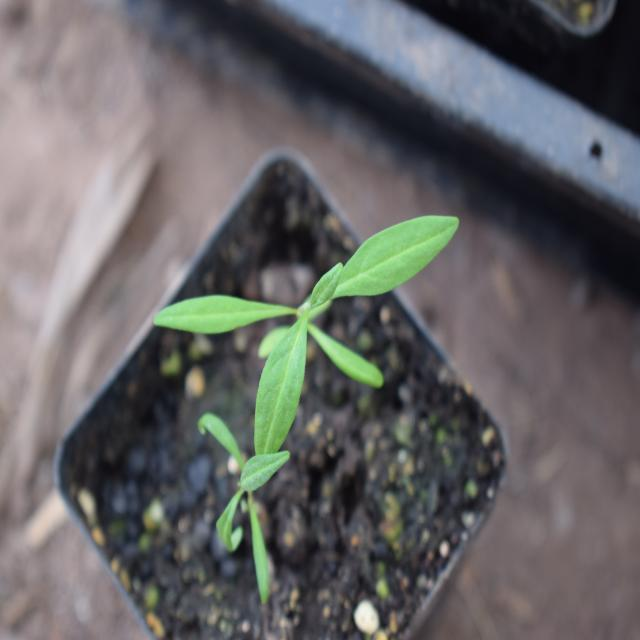white_smart_weed: (151, 200, 480, 447)
